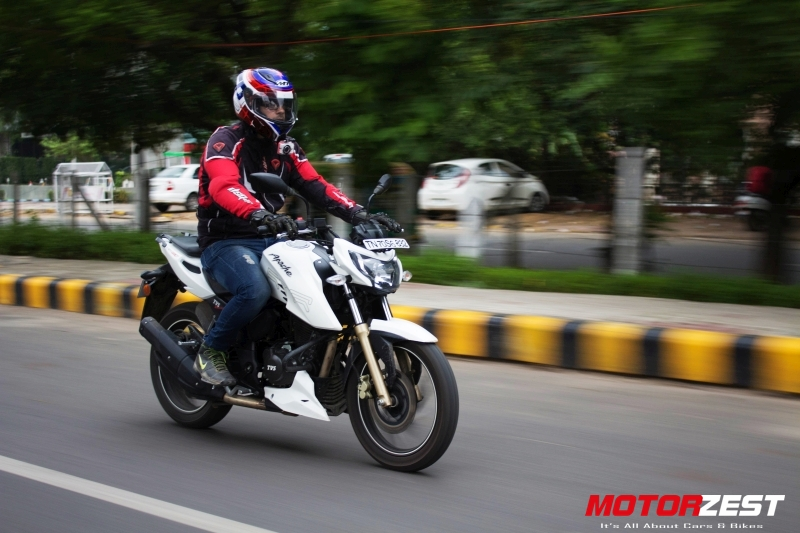helmet: (229, 60, 302, 146)
